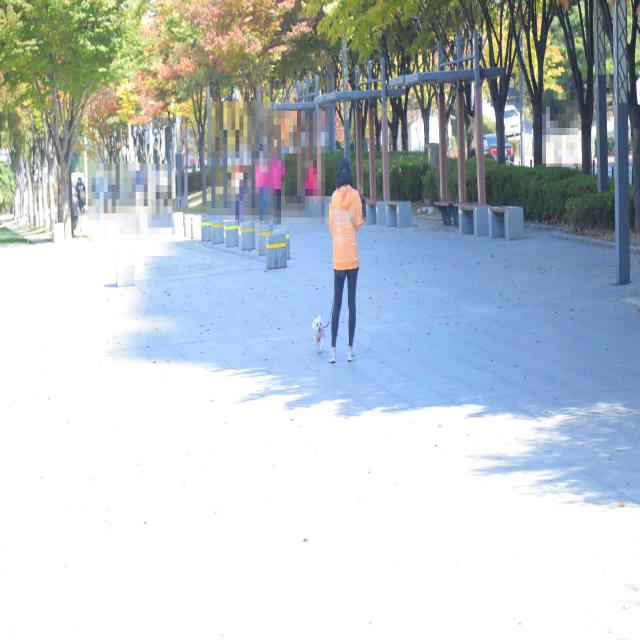Leashed_Dog: (311, 266, 341, 356)
